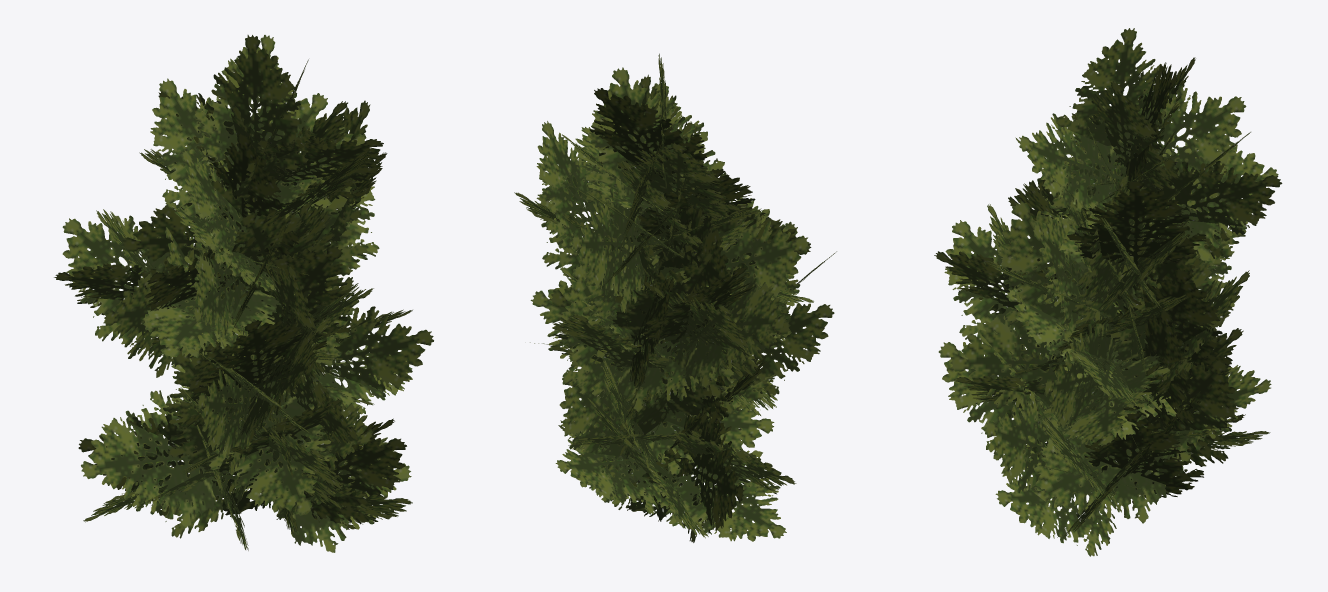
The model's file is busch_4.glb.
The picture shows the model from 3 angles, left to right: view 1: azimuth 30°, elevation 25°; view 2: azimuth 150°, elevation 25°; view 3: azimuth 270°, elevation 25°; orthographic projection. The views are drawn at different scales.
Visible parts, largest first — view 1: laub; view 2: laub; view 3: laub.
Boxes of the visible parts, x1,y1,x2,y2 form: laub: (54,35,433,552); laub: (514,53,836,542); laub: (934,28,1282,556).
Bounding box in the file's own units: 2.37 × 3.3 × 2.44.
Materials: 1 (1 with a texture image).
